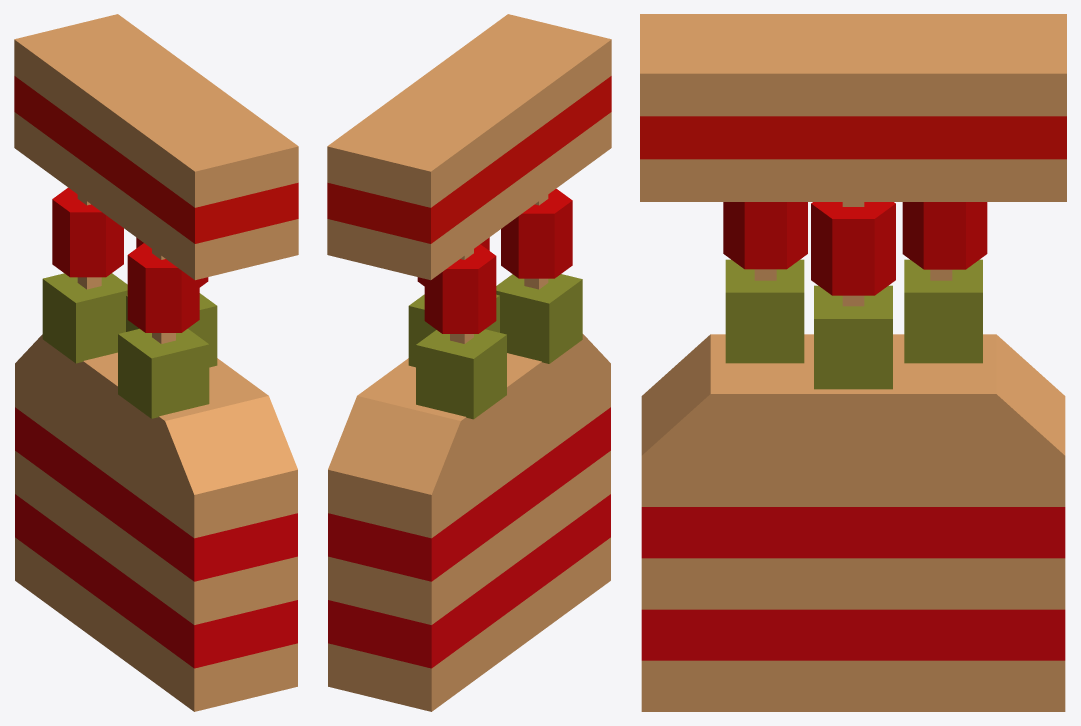
Rendered from WeightAnswer.fbx.
The picture shows the model from 3 angles, left to right: view 1: azimuth 30°, elevation 25°; view 2: azimuth 150°, elevation 25°; view 3: azimuth 270°, elevation 25°; orthographic projection. The views are drawn at different scales.
Visible parts, largest first — view 1: Cube, Cube.001, Cube.003, Cube.004, Cylinder.002, Cylinder.001, Cube.002; view 2: Cube, Cube.001, Cube.004, Cube.003, Cylinder.001, Cylinder.002, Cube.002; view 3: Cube, Cube.001, Cube.003, Cylinder, Cube.004, Cube.002, Cylinder.001, Cylinder.002.
Boxes of the visible parts, bbox=[...] form: Cube: bbox=[15, 195, 297, 711]; Cube.001: bbox=[14, 14, 298, 280]; Cube.003: bbox=[118, 328, 209, 418]; Cube.004: bbox=[42, 273, 127, 363]; Cylinder.002: bbox=[127, 243, 199, 332]; Cylinder.001: bbox=[52, 187, 123, 277]; Cube.002: bbox=[126, 293, 217, 367]; Cube: bbox=[328, 195, 610, 711]; Cube.001: bbox=[327, 14, 611, 280]; Cube.004: bbox=[416, 329, 506, 419]; Cube.003: bbox=[496, 274, 582, 363]; Cylinder.001: bbox=[424, 244, 496, 333]; Cylinder.002: bbox=[501, 188, 572, 278]; Cube.002: bbox=[408, 294, 499, 367]; Cube: bbox=[641, 202, 1065, 711]; Cube.001: bbox=[640, 14, 1066, 201]; Cube.003: bbox=[725, 259, 804, 363]; Cylinder: bbox=[811, 202, 895, 295]; Cube.004: bbox=[904, 259, 982, 363]; Cube.002: bbox=[814, 285, 892, 389]; Cylinder.001: bbox=[902, 202, 987, 269]; Cylinder.002: bbox=[723, 202, 807, 269].
Bounding box in the file's own units: 214 × 604 × 996.
